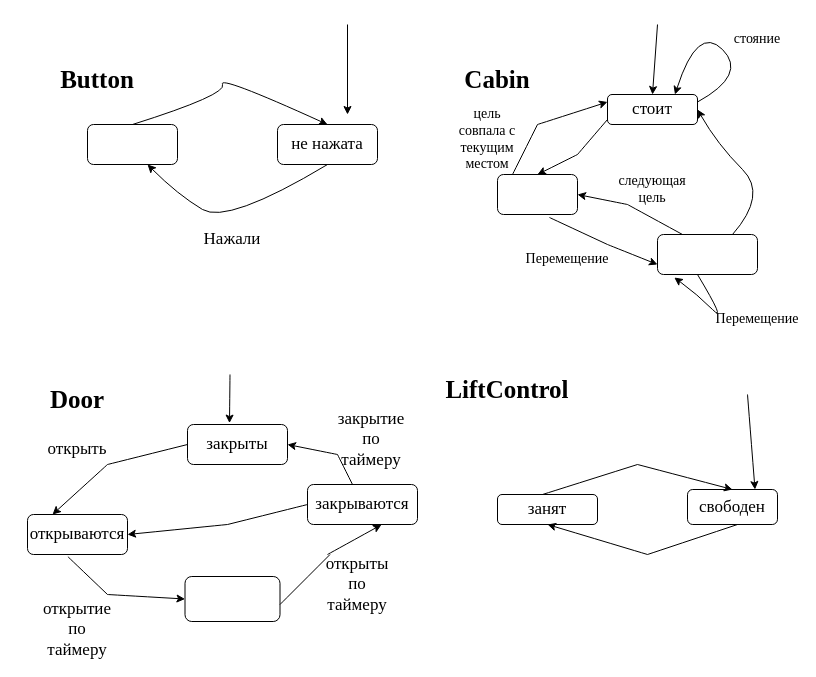
This 816x677 diagram has some shape labels left out. Each missing label, with the centre of its shape:
движется: point 707,254
нажата: point 132,144
открыты: point 232,599
получила цель: point 537,194
